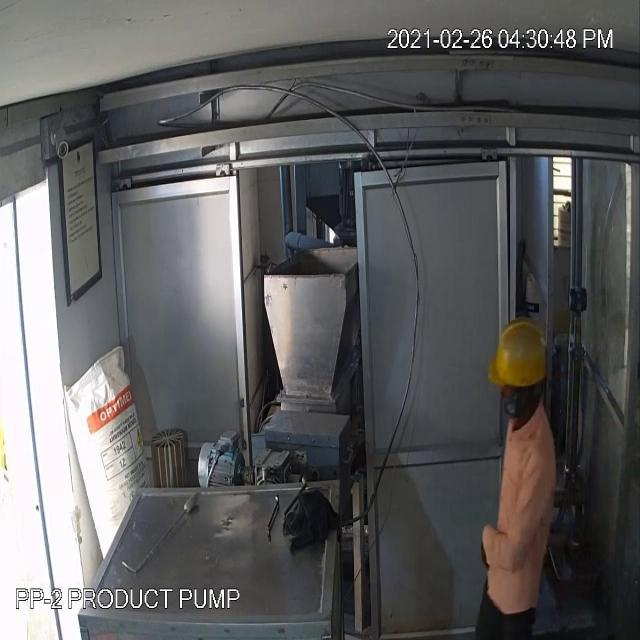hat: (472, 299, 557, 405)
